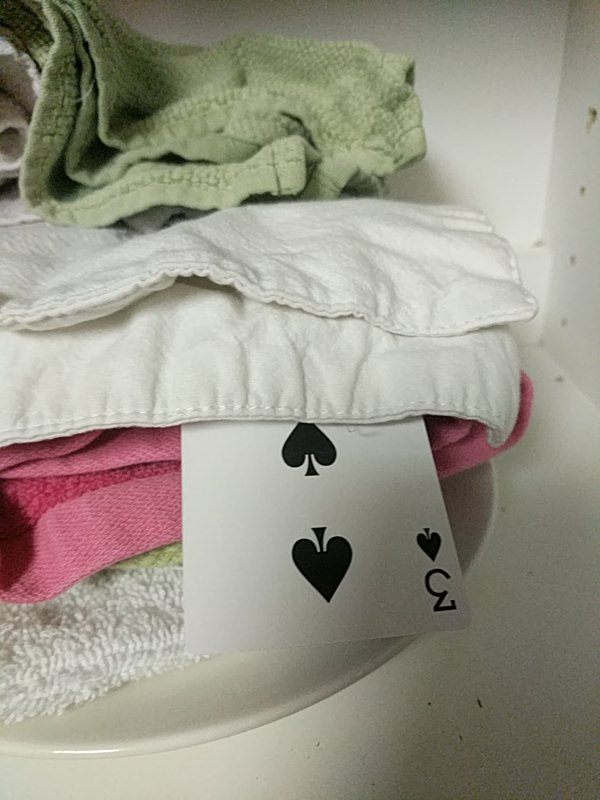Spades: (181, 417, 470, 647)
